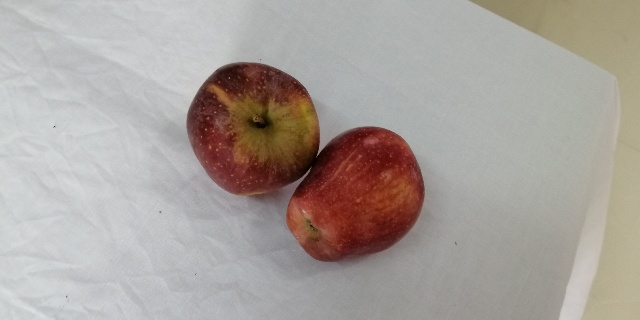apple_kashmir: (185, 55, 325, 199), (289, 126, 427, 265)
